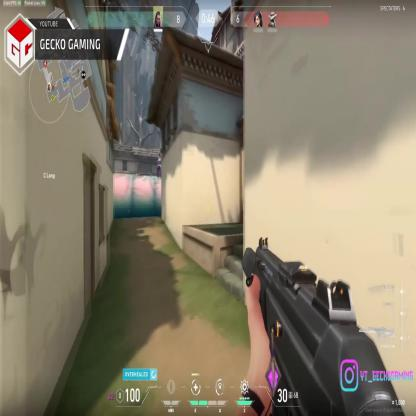enemy: (156, 153, 163, 179)
enemy_head: (158, 153, 160, 158)
